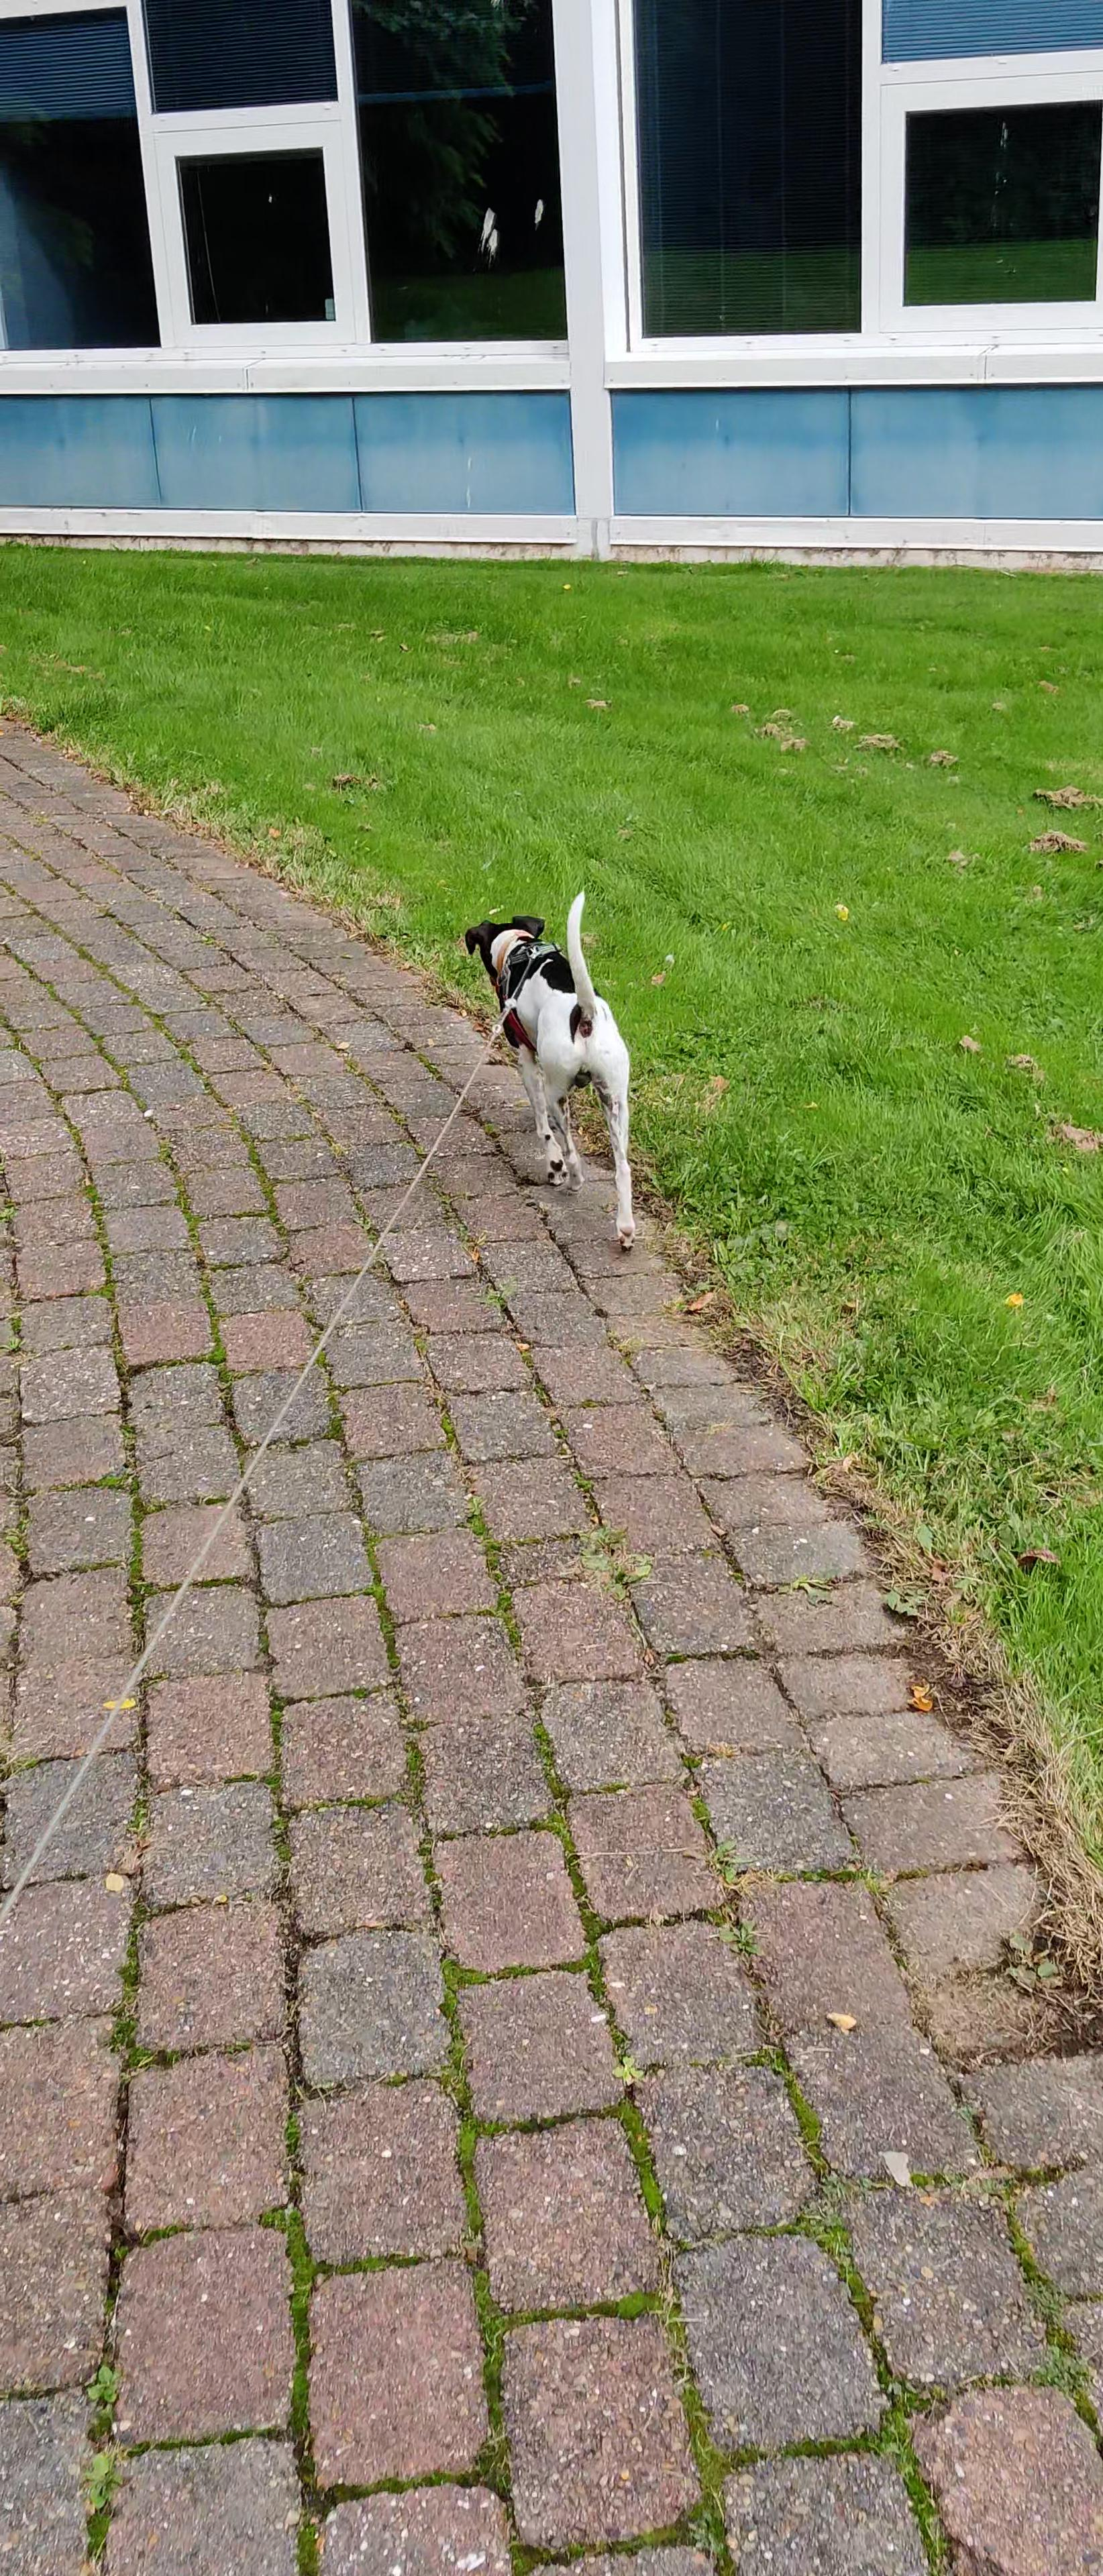Dog: (457, 881, 643, 1262)
